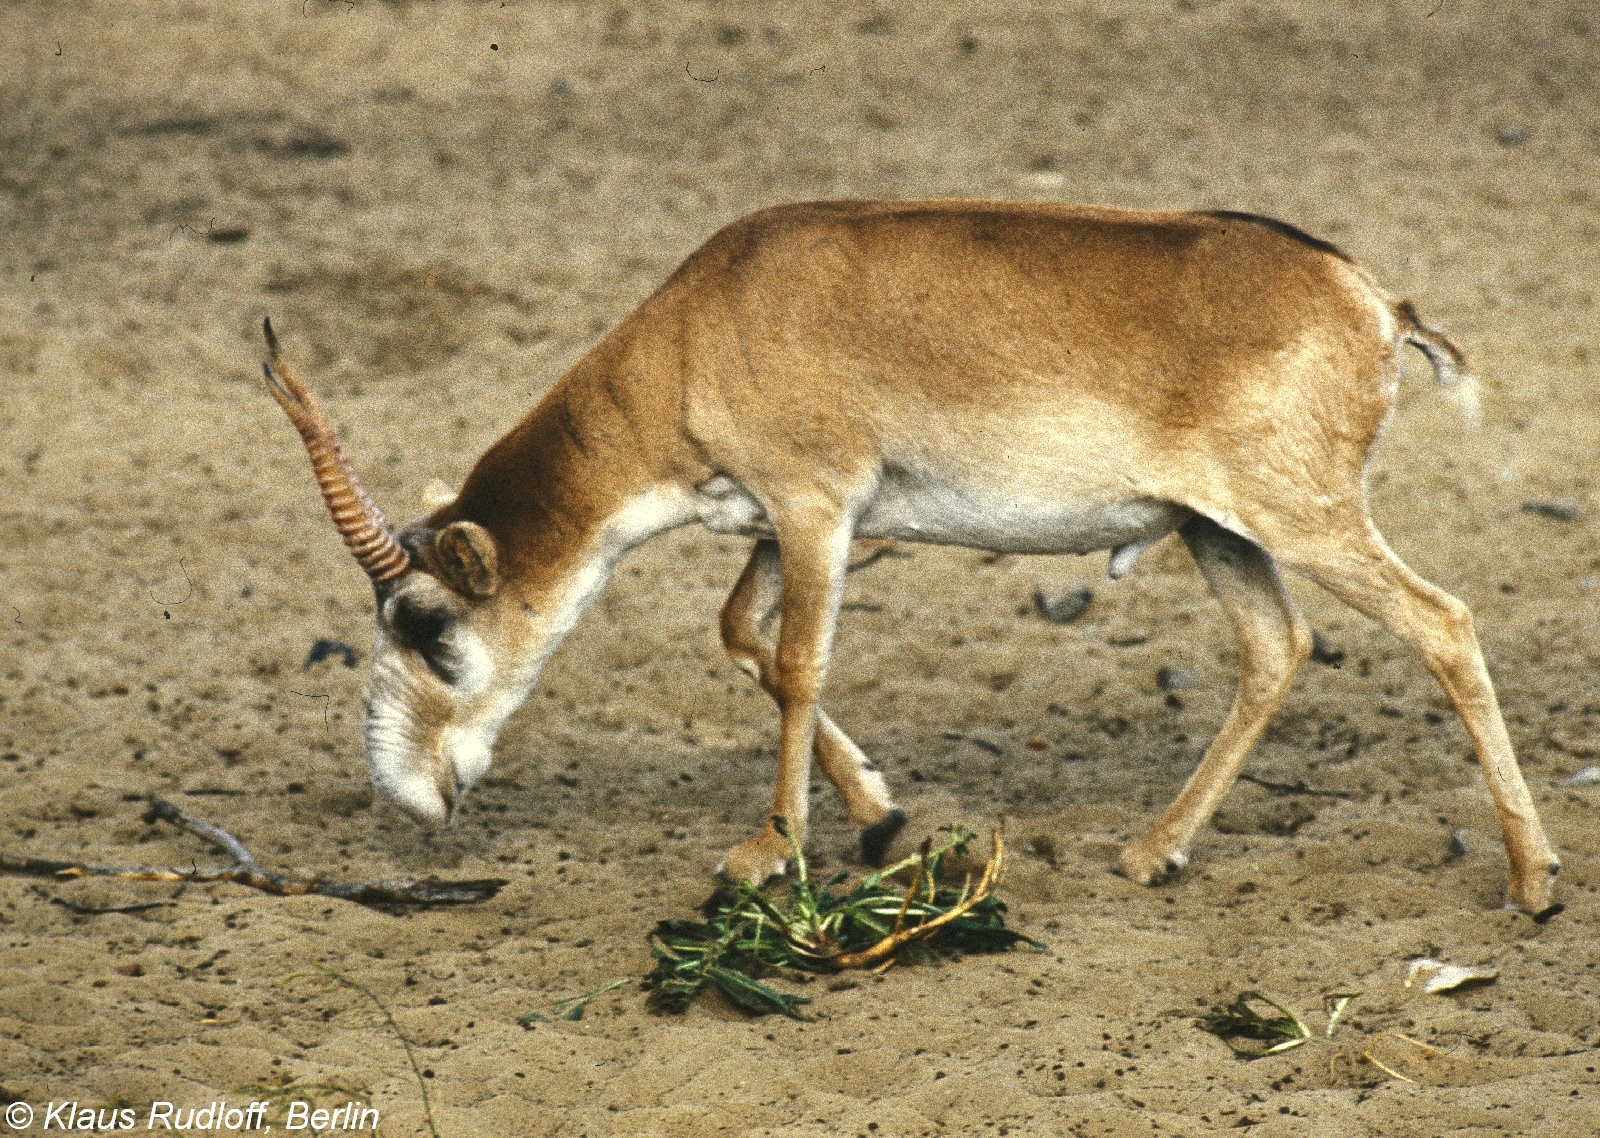saiga: (260, 197, 1564, 935)
